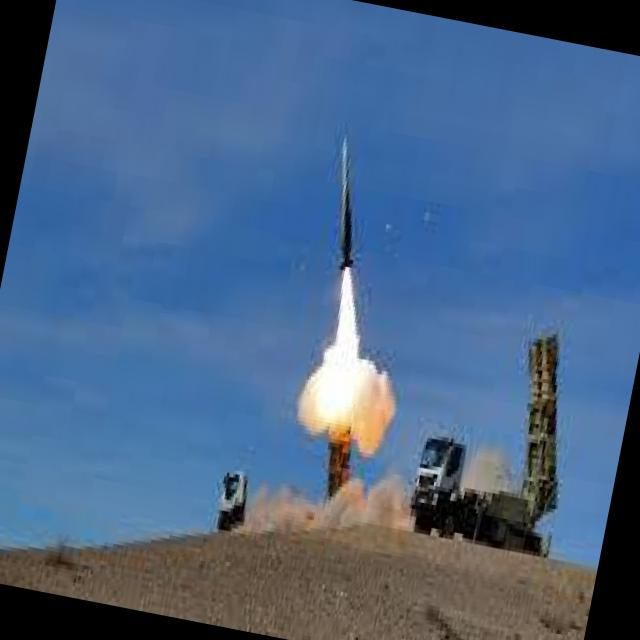rocket: (284, 119, 411, 439)
